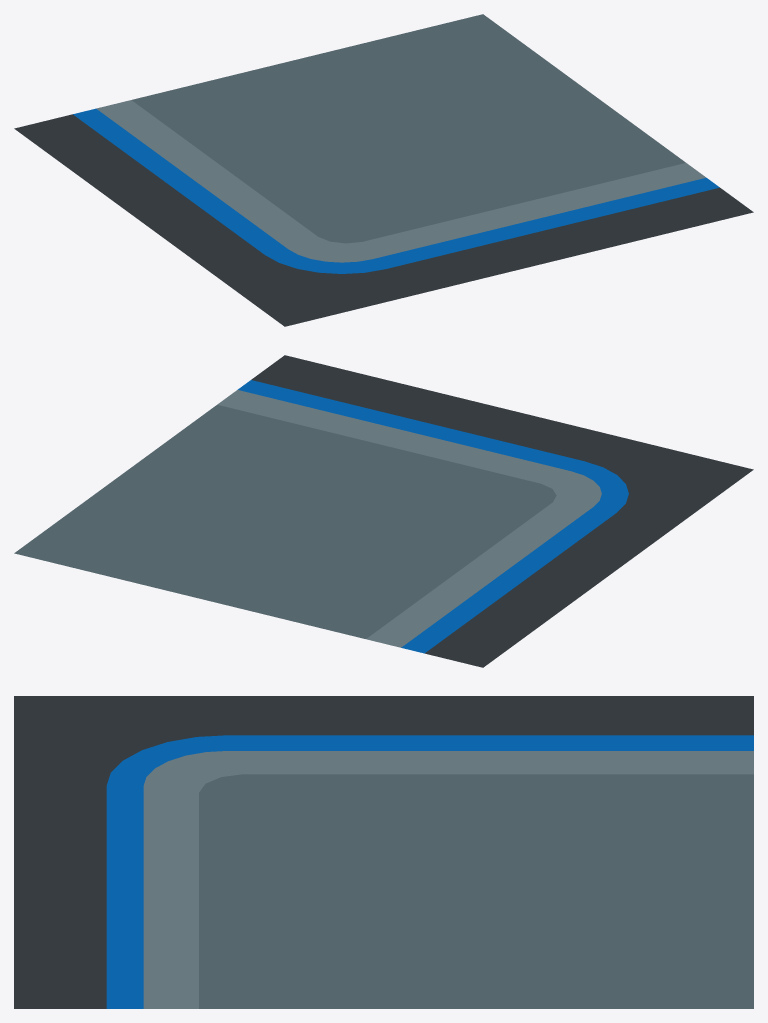
Rendered from Ceiling_type_C_013.fbx.
3 views of the same model, one above another, from view 1: azimuth 30°, elevation 25°; view 2: azimuth 150°, elevation 25°; view 3: azimuth 270°, elevation 25° (orthographic). The views are drawn at different scales.
Visible parts, largest first — view 1: Ceiling_type_C_013; view 2: Ceiling_type_C_013; view 3: Ceiling_type_C_013.
Boxes of the visible parts, x1=… form: Ceiling_type_C_013: x1=14, y1=14, x2=753, y2=326; Ceiling_type_C_013: x1=14, y1=355, x2=753, y2=667; Ceiling_type_C_013: x1=14, y1=696, x2=753, y2=1008.
Size of the model in its own units: 400 by 400 by 5.66.
